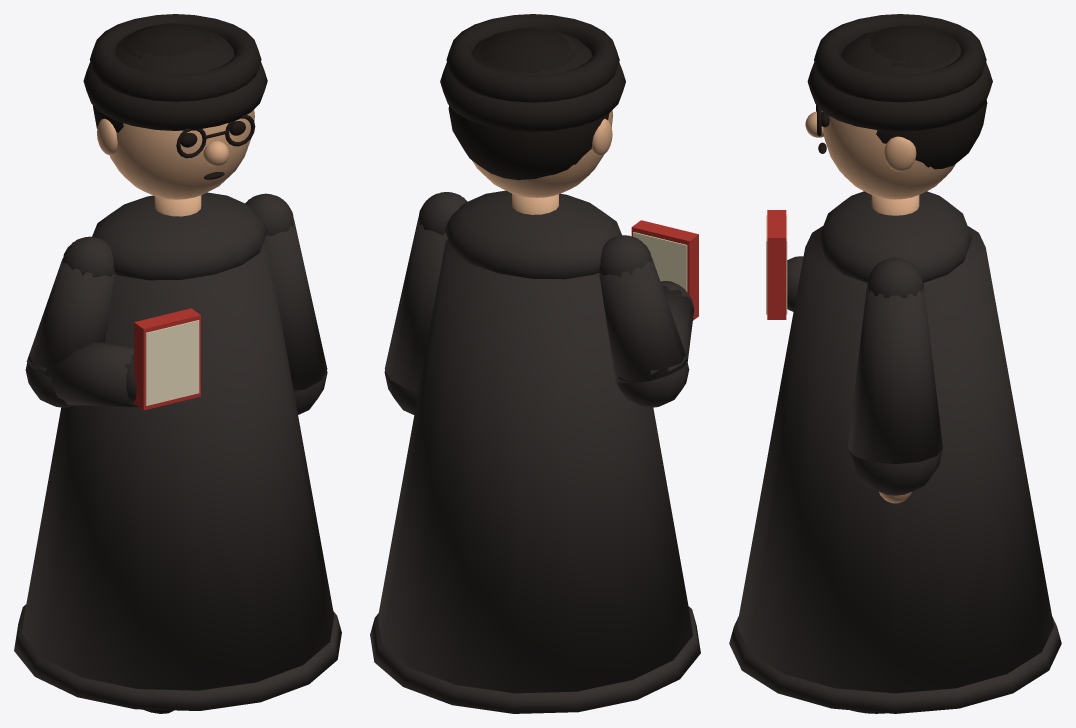
File: villager_ong_giao.glb
3 renders of one model, left to right at view 1: azimuth 30°, elevation 25°; view 2: azimuth 150°, elevation 25°; view 3: azimuth 270°, elevation 25°, orthographic.
Visible parts, largest first — view 1: Body, Head, ArmL, ArmR; view 2: Body, Head, ArmL, ArmR; view 3: Body, Head, ArmR, ArmL.
Part boxes in pixels (box(x1,y1,x2,y2)): Body: box(14, 192, 341, 710); Head: box(83, 14, 267, 199); ArmL: box(25, 236, 200, 410); ArmR: box(245, 193, 327, 414); Body: box(370, 190, 700, 713); Head: box(440, 14, 625, 197); ArmL: box(599, 220, 698, 407); ArmR: box(384, 192, 467, 414); Body: box(729, 191, 1061, 713); Head: box(805, 14, 992, 199); ArmR: box(848, 257, 942, 503); ArmL: box(766, 210, 803, 319).
Bounding box in the file's own units: 0.71 × 1.53 × 0.7.
